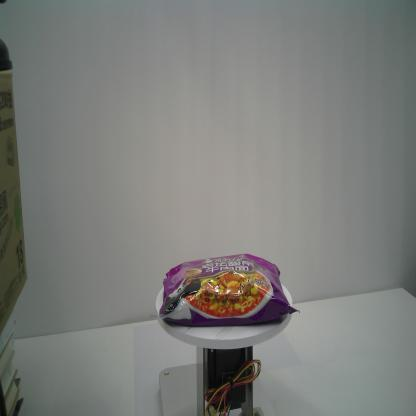Instant Noodles: (150, 252, 301, 328)
